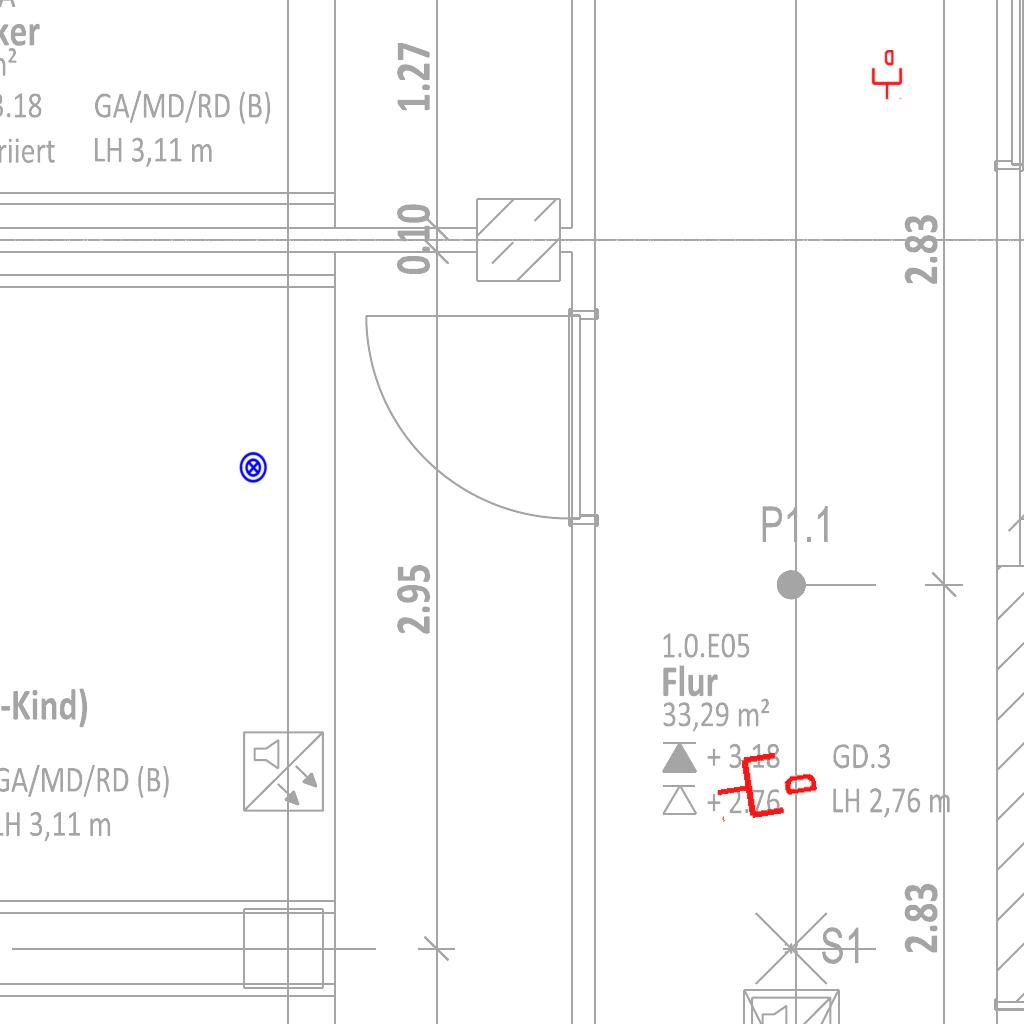Datenanschluss_einfach: (710, 743, 821, 827), (870, 50, 904, 100)
Taster_beleuchtet: (237, 451, 270, 484)
